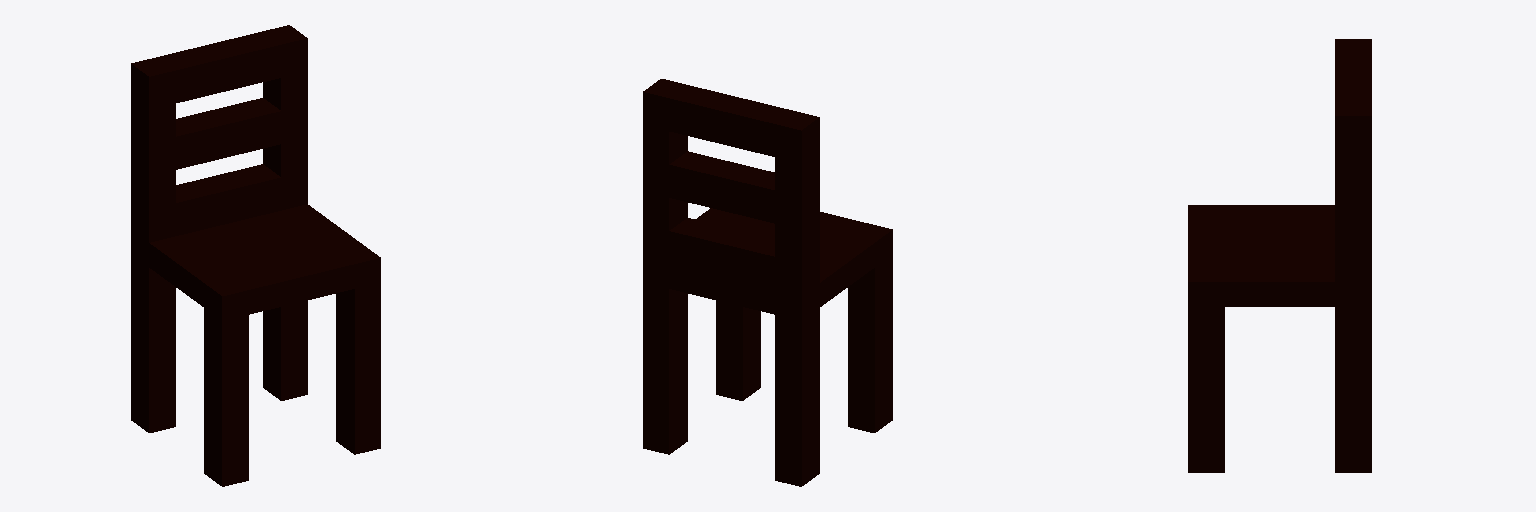
The model's file is chair.obj.
The picture shows the model from 3 angles: view 1: azimuth 30°, elevation 25°; view 2: azimuth 150°, elevation 25°; view 3: azimuth 270°, elevation 25°; orthographic projection.
Visible parts, largest first — view 1: Cube_Cube.001; view 2: Cube_Cube.001; view 3: Cube_Cube.001.
Boxes of the visible parts, x1=… form: Cube_Cube.001: x1=131, y1=25, x2=380, y2=486; Cube_Cube.001: x1=643, y1=79, x2=892, y2=486; Cube_Cube.001: x1=1188, y1=39, x2=1371, y2=472.
Size of the model in its own units: 2 by 4.3 by 2.